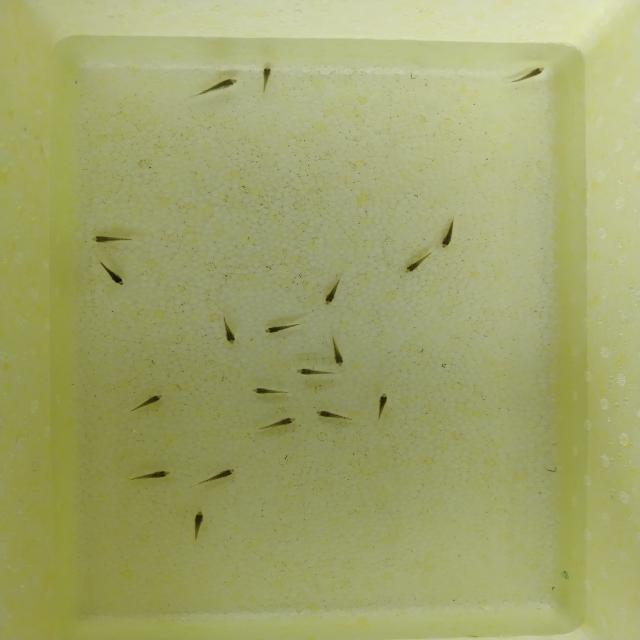fingerling: (136, 464, 180, 484), (217, 316, 242, 347), (199, 467, 239, 485), (100, 264, 128, 288), (438, 220, 460, 250), (513, 64, 544, 83), (322, 280, 343, 308), (311, 407, 348, 422), (134, 391, 170, 406), (372, 390, 395, 413), (405, 255, 431, 275), (206, 78, 240, 93), (328, 340, 346, 368), (265, 415, 303, 428), (258, 323, 306, 333), (189, 508, 207, 533), (294, 366, 330, 378), (87, 235, 130, 244), (248, 386, 286, 394), (264, 66, 270, 96)
